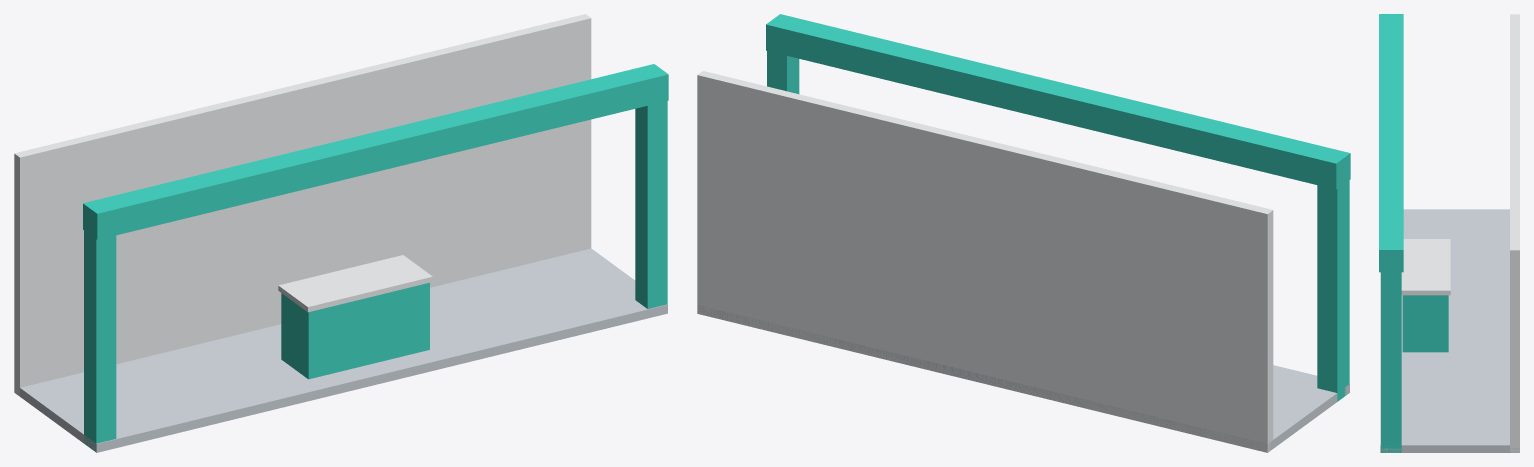
3 renders of one model, left to right at view 1: azimuth 30°, elevation 25°; view 2: azimuth 150°, elevation 25°; view 3: azimuth 270°, elevation 25°, orthographic. The views are drawn at different scales.
Visible parts, largest first — view 1: Exhibition Booth Concept; view 2: Exhibition Booth Concept; view 3: Exhibition Booth Concept.
Boxes of the visible parts, bbox=[...] form: Exhibition Booth Concept: bbox=[14, 14, 668, 452]; Exhibition Booth Concept: bbox=[697, 14, 1350, 452]; Exhibition Booth Concept: bbox=[1379, 14, 1519, 452].
Bounding box in the file's own units: 8 × 3.2 × 2.01.
